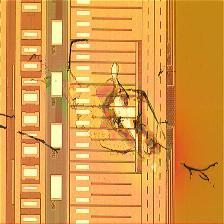PARTICLE: (1, 37, 224, 190)
